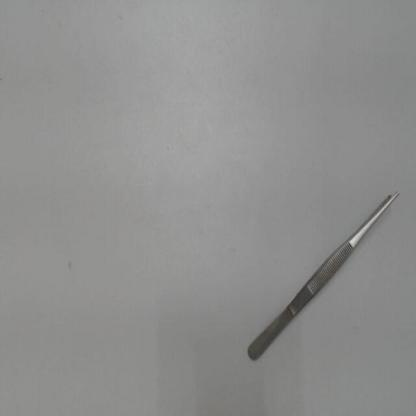Gillies Toothed Dissector: (242, 185, 405, 370)
